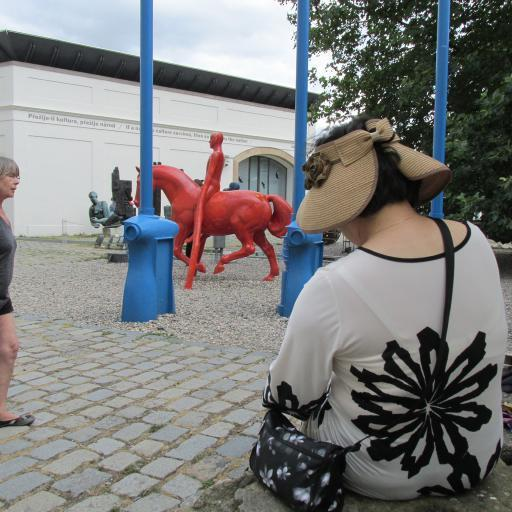horse: (133, 165, 296, 281)
